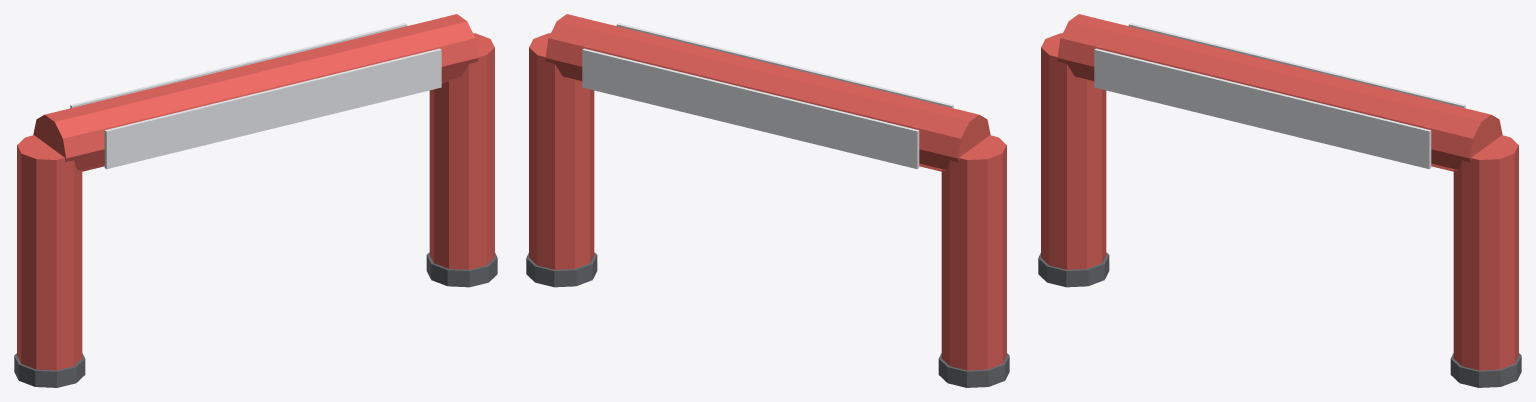
File: finisharch.glb
3 views of the same model, side by side, from view 1: azimuth 30°, elevation 25°; view 2: azimuth 150°, elevation 25°; view 3: azimuth 330°, elevation 25° (orthographic).
Parts seen in each view (by area): view 1: finish-arch; view 2: finish-arch; view 3: finish-arch.
Boxes of the visible parts, bbox=[...] form: finish-arch: bbox=[14, 14, 497, 387]; finish-arch: bbox=[526, 14, 1009, 387]; finish-arch: bbox=[1038, 14, 1521, 387].
Bounding box in the file's own units: 9.2 × 4.72 × 1.22.
